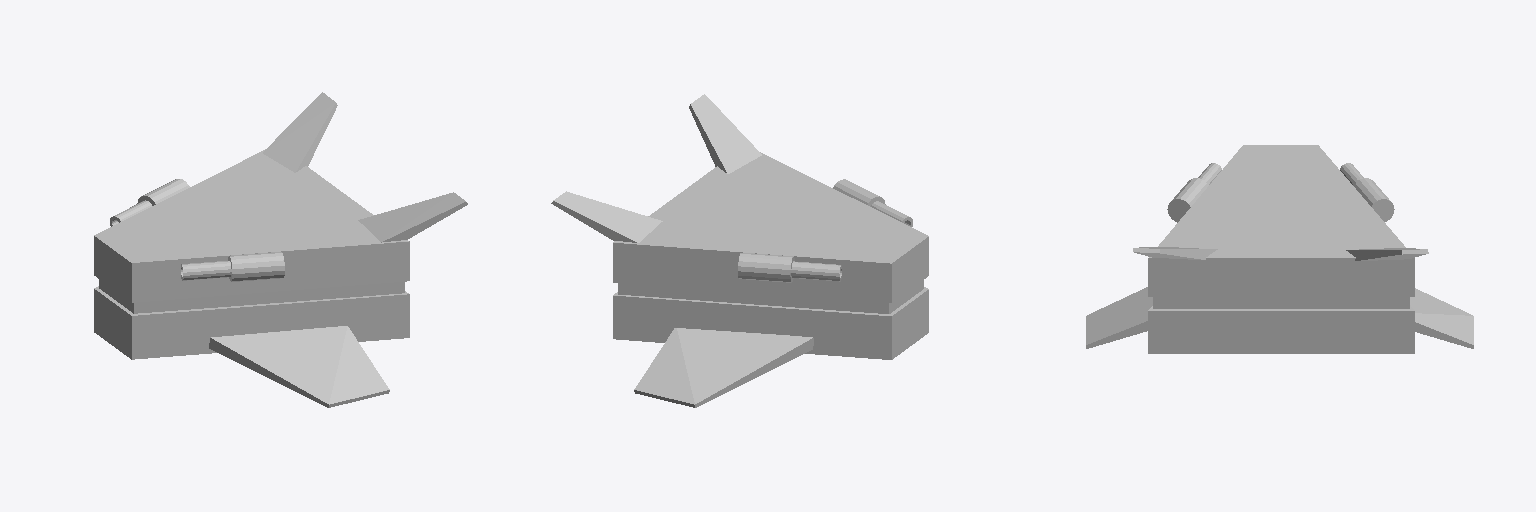
Rendered from Sentinel.obj.
The picture shows the model from 3 angles: view 1: azimuth 30°, elevation 25°; view 2: azimuth 150°, elevation 25°; view 3: azimuth 270°, elevation 25°; orthographic projection.
Visible parts, largest first — view 1: Body_Cube.001; view 2: Body_Cube.001; view 3: Body_Cube.001.
Part boxes in pixels (left/top/right/bottom): Body_Cube.001: left=94, top=92, right=467, bottom=407; Body_Cube.001: left=551, top=94, right=928, bottom=407; Body_Cube.001: left=1086, top=145, right=1473, bottom=353.
Size of the model in its own units: 2.48 by 1.25 by 2.92.